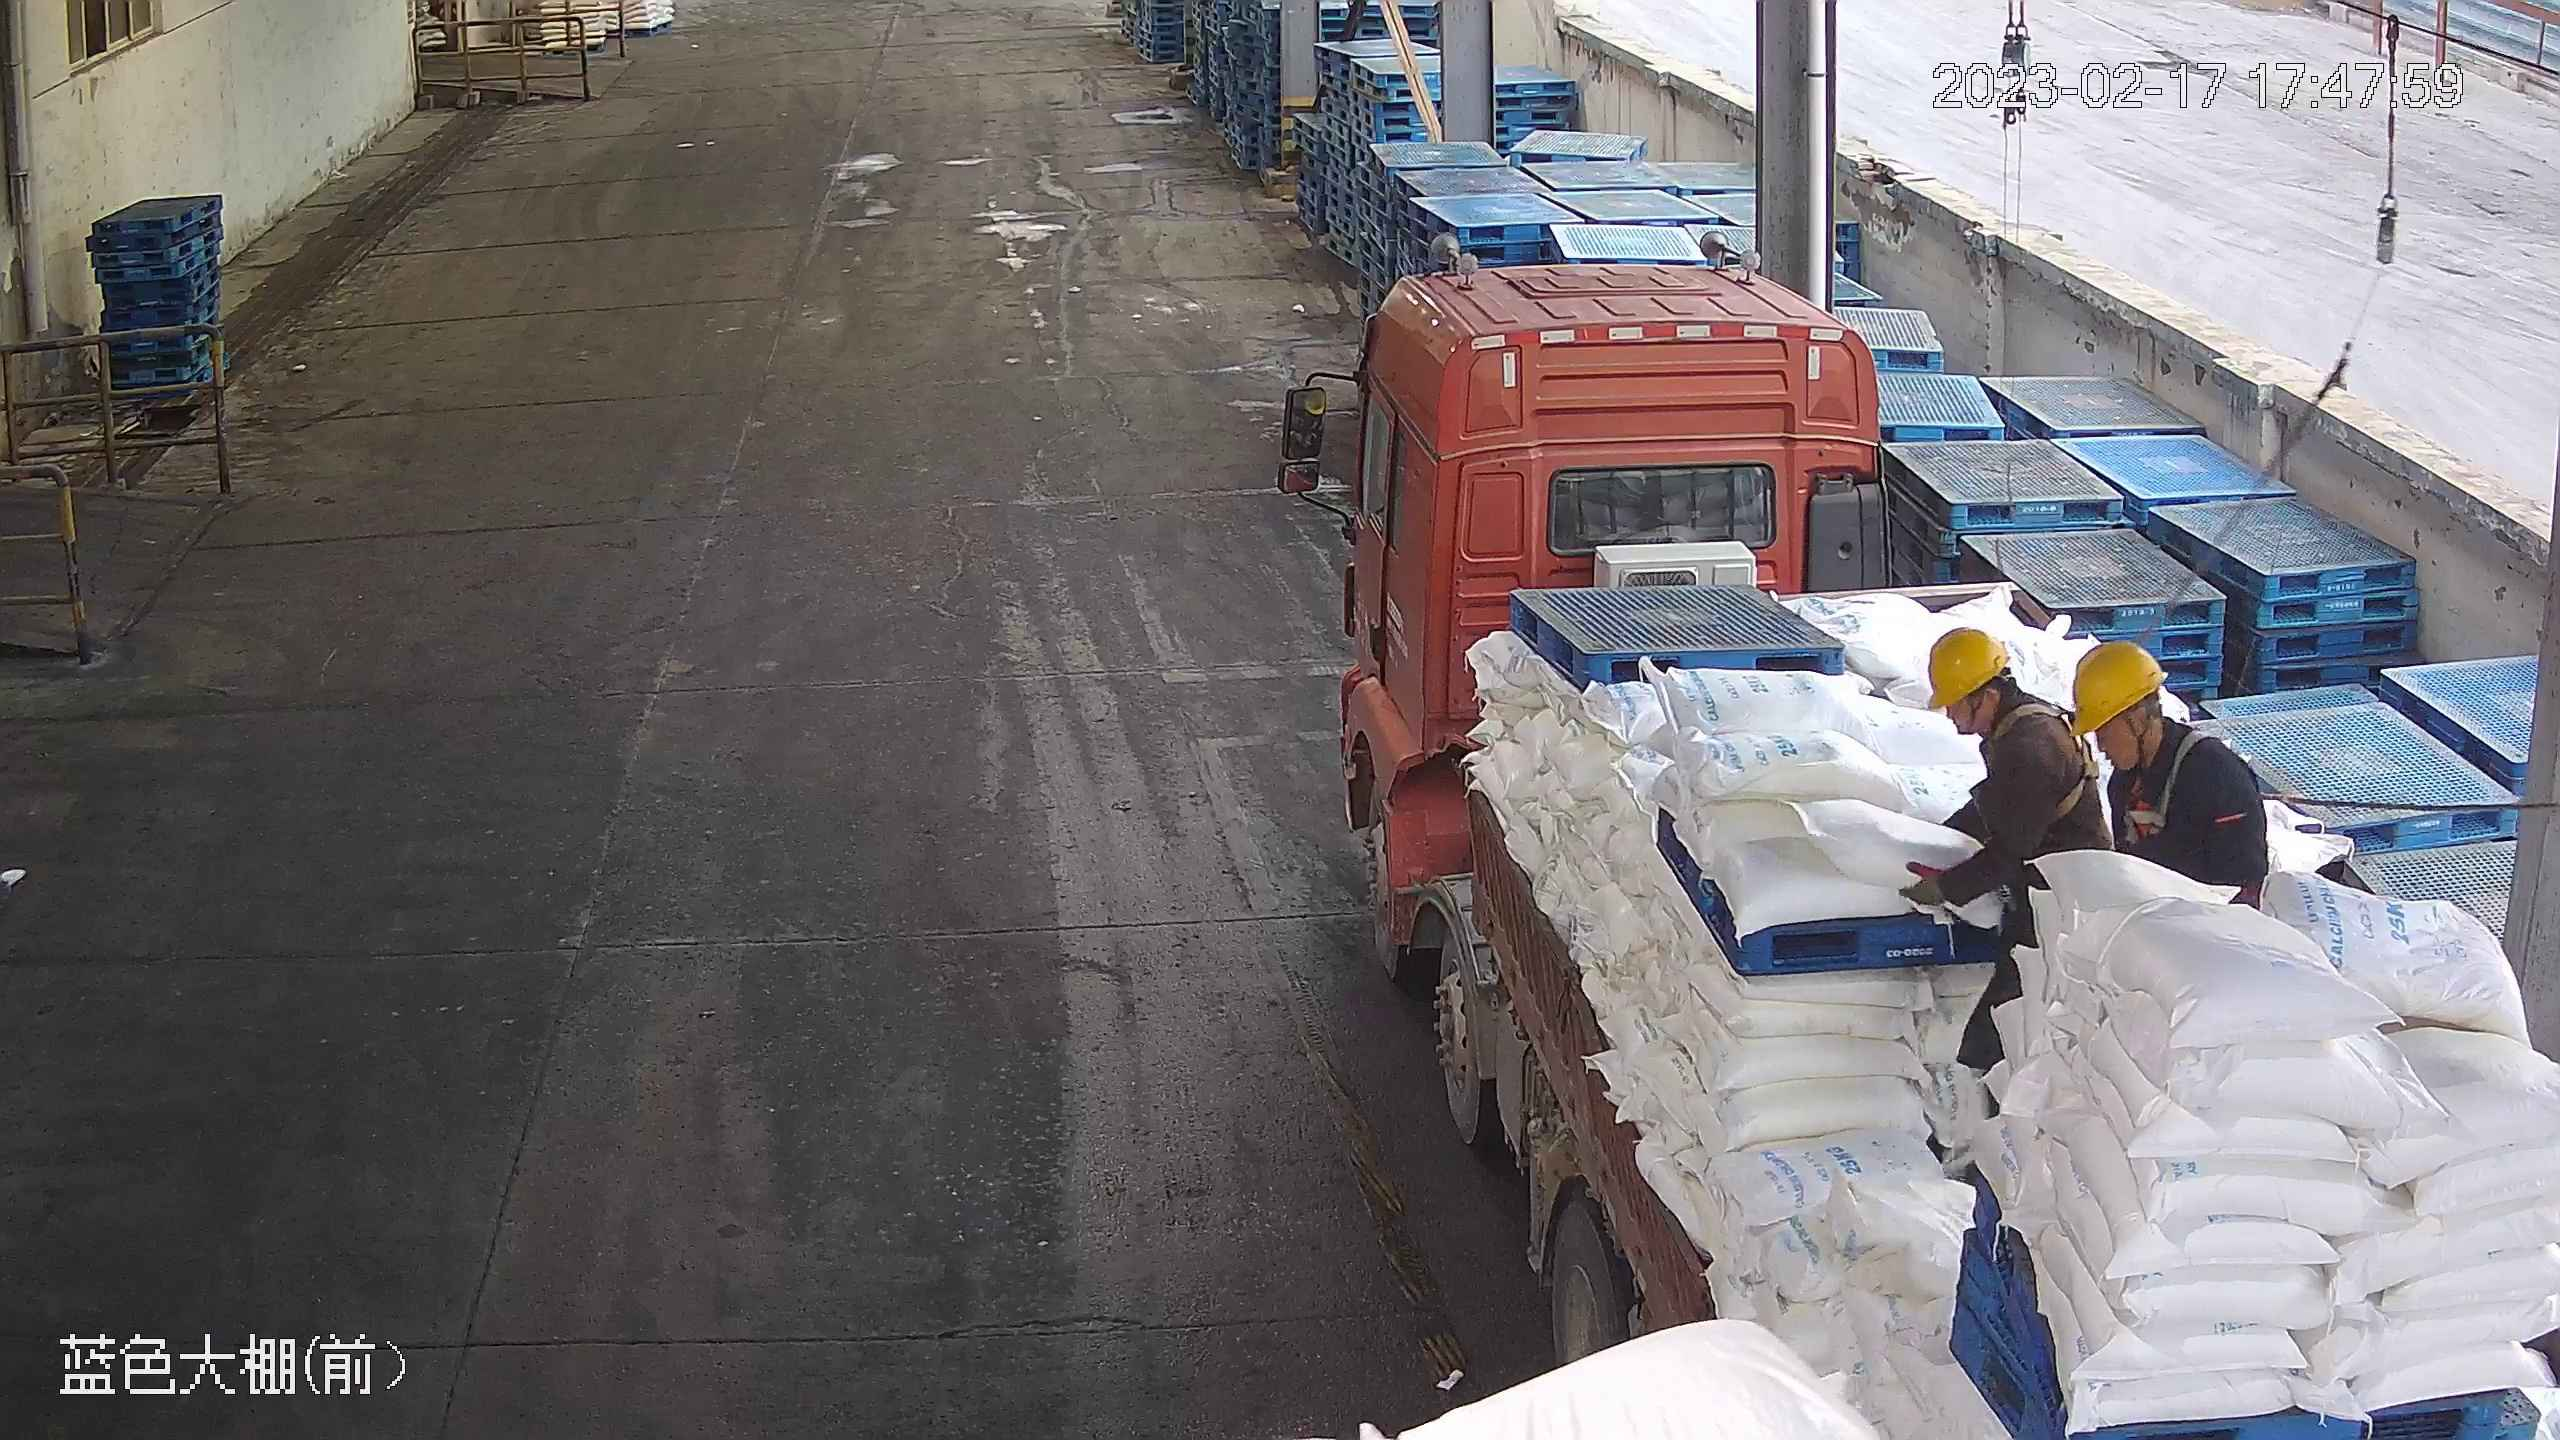belt: (1993, 697, 2101, 821), (2114, 729, 2212, 842)
head: (2070, 637, 2256, 805), (1923, 624, 2081, 780)
helmet: (2069, 635, 2162, 735), (1922, 623, 2011, 709)
people: (1902, 623, 2109, 1100)
truck: (1276, 257, 2560, 1440)
